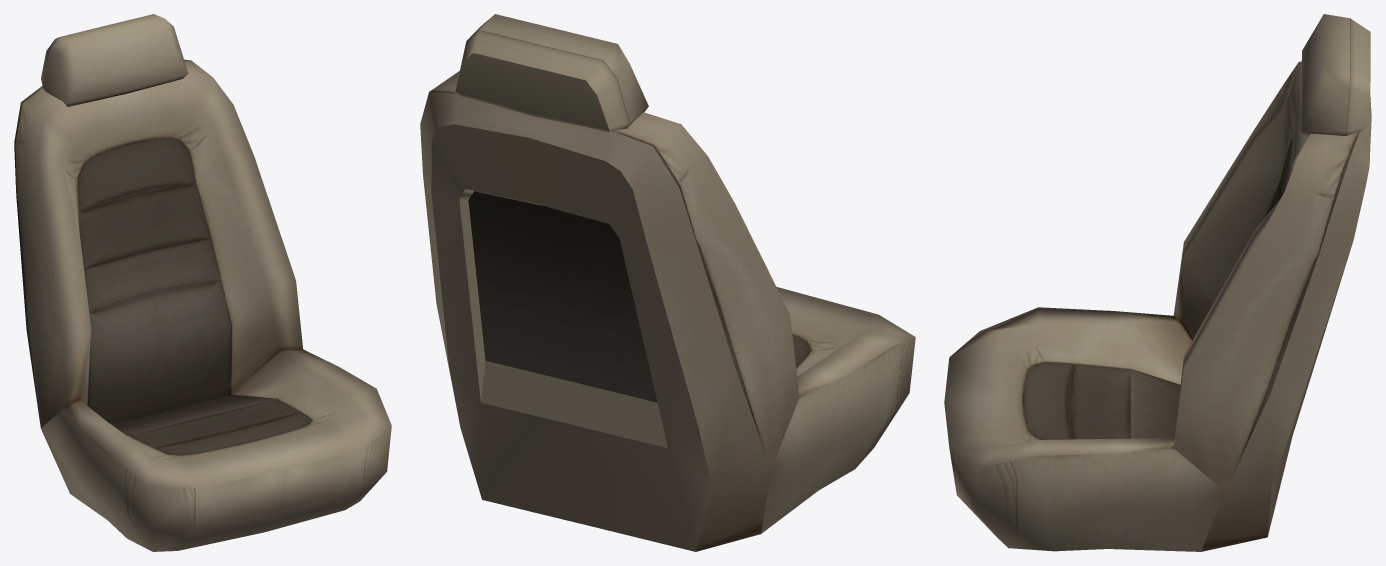
File: front_seat.fbx
3 renders of one model, left to right at view 1: azimuth 30°, elevation 25°; view 2: azimuth 150°, elevation 25°; view 3: azimuth 270°, elevation 25°, orthographic. The views are drawn at different scales.
Visible parts, largest first — view 1: node_id594; view 2: node_id594; view 3: node_id594.
Boxes of the visible parts, box(x1,y1,x2,y2) form: node_id594: box(14, 14, 391, 551); node_id594: box(420, 14, 915, 551); node_id594: box(944, 14, 1371, 551).
Bounding box in the file's own units: 0.1324 × 0.1892 × 0.161.
1 material, 1 textured.
